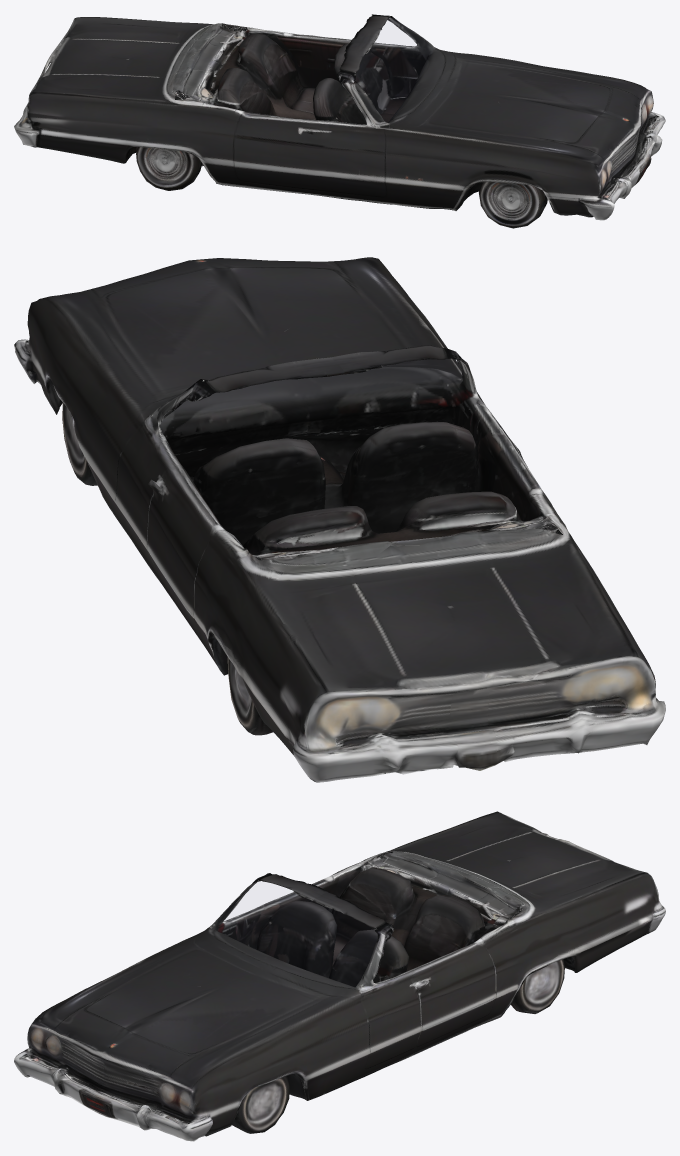
Rendered from ps1 style abandoned car.fbx.
3 views of the same model, one above another, from view 1: azimuth 30°, elevation 25°; view 2: azimuth 150°, elevation 25°; view 3: azimuth 270°, elevation 25° (orthographic). The views are drawn at different scales.
Visible parts, largest first — view 1: ps1 abandoned car; view 2: ps1 abandoned car; view 3: ps1 abandoned car.
Boxes of the visible parts, x1,y1,x2,y2 form: ps1 abandoned car: (14, 14, 665, 228); ps1 abandoned car: (14, 257, 665, 782); ps1 abandoned car: (14, 811, 665, 1141).
Size of the model in its own units: 185 by 44.73 by 183.
